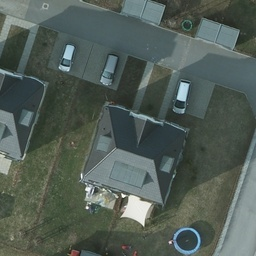car: (172, 79, 190, 115), (100, 53, 118, 86), (60, 43, 75, 72)
